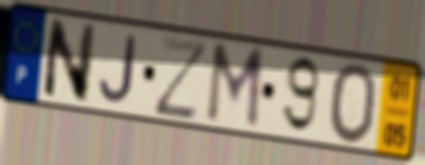9: (278, 54, 322, 138)
J: (97, 32, 139, 106)
M: (203, 40, 267, 134)
N: (40, 16, 100, 107)
O: (328, 60, 380, 148)
Z: (152, 33, 211, 124)
